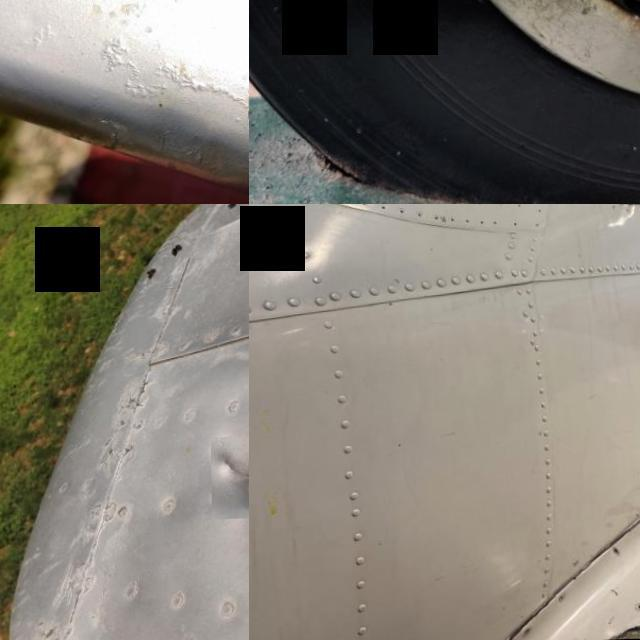Crack: (465, 551, 581, 640), (209, 437, 249, 522), (595, 624, 640, 640)
Missing_Fastener: (610, 550, 618, 560), (635, 606, 640, 613)
